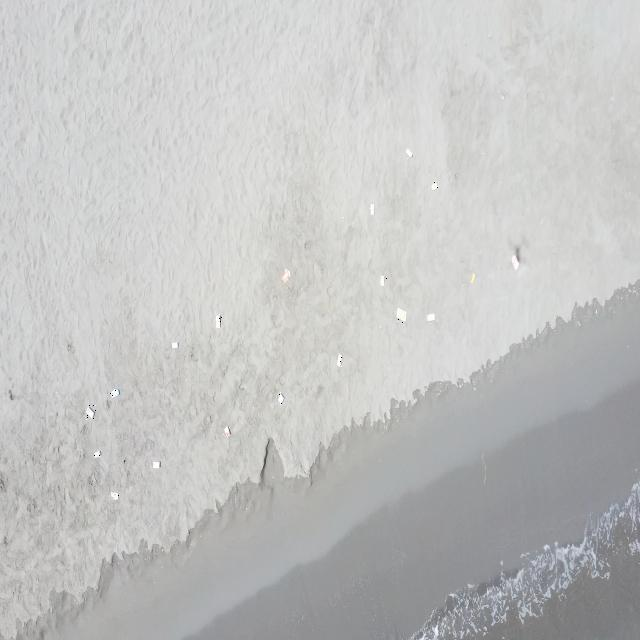retort-pouch: (396, 306, 408, 323), (281, 267, 290, 285), (511, 254, 520, 271), (86, 405, 96, 420), (110, 387, 121, 400), (110, 489, 120, 502), (336, 352, 343, 368), (215, 314, 222, 329), (222, 425, 230, 438), (380, 274, 387, 288), (94, 448, 102, 460), (427, 312, 435, 324), (406, 146, 413, 159), (172, 339, 179, 352), (278, 392, 284, 406), (368, 202, 374, 215), (431, 182, 438, 192), (152, 459, 159, 469), (470, 273, 476, 284)
